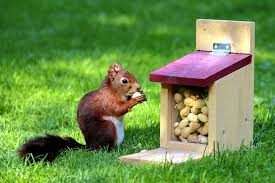Ardilla: (72, 61, 151, 150)
